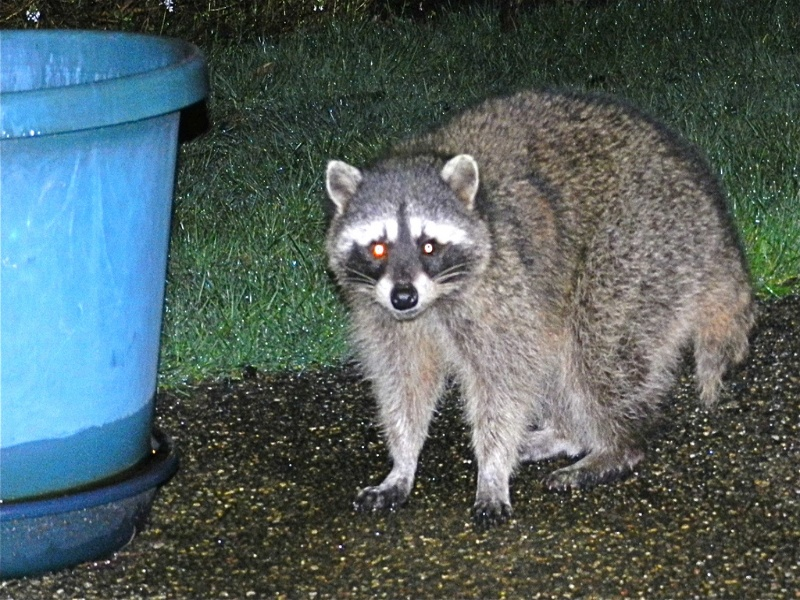raccoon: (323, 85, 765, 527)
